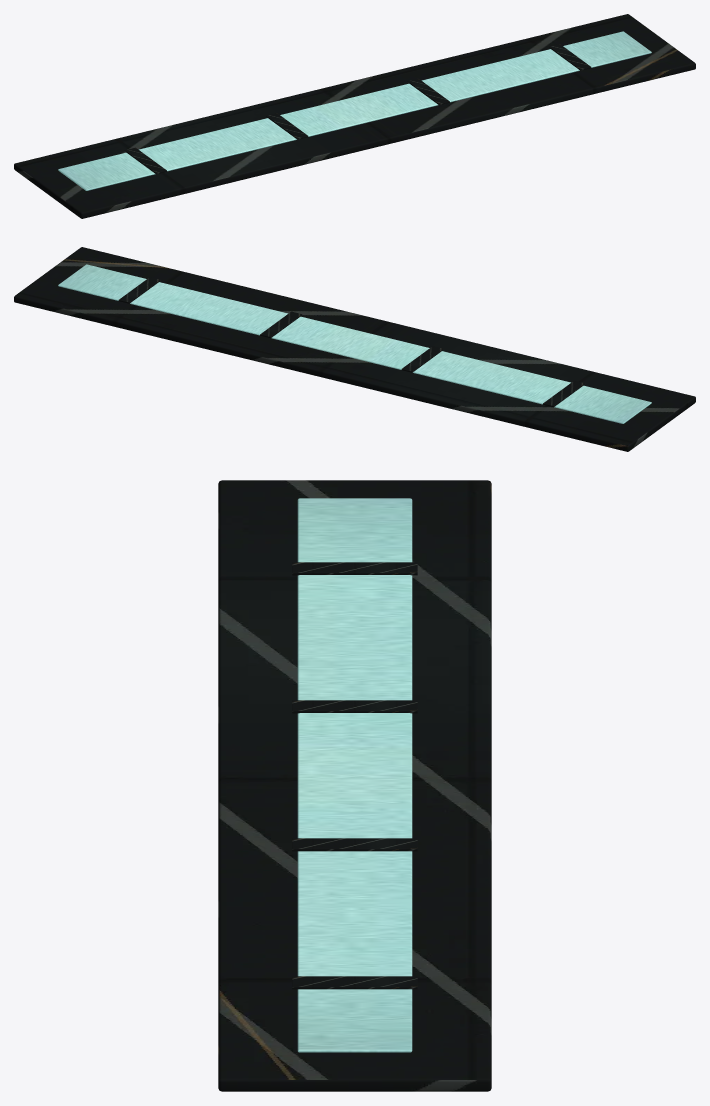
The model's file is hp_room_museum_floor_route_inlay.glb.
3 renders of one model, top to bottom at view 1: azimuth 30°, elevation 25°; view 2: azimuth 150°, elevation 25°; view 3: azimuth 270°, elevation 25°, orthographic. The views are drawn at different scales.
Parts seen in each view (by area): view 1: museum_floor_route_base, image2_four_color_route_visible_strip, thin_route_divider_0; view 2: museum_floor_route_base, image2_four_color_route_visible_strip, thin_route_divider_0; view 3: museum_floor_route_base, image2_four_color_route_visible_strip, thin_route_divider_0.
Part boxes in pixels (x1,y1,x2,y2): museum_floor_route_base: [14, 14, 695, 218]; image2_four_color_route_visible_strip: [58, 31, 651, 190]; thin_route_divider_0: [124, 44, 591, 174]; museum_floor_route_base: [14, 247, 695, 451]; image2_four_color_route_visible_strip: [58, 264, 651, 423]; thin_route_divider_0: [118, 277, 585, 407]; museum_floor_route_base: [218, 480, 491, 1091]; image2_four_color_route_visible_strip: [297, 498, 412, 1052]; thin_route_divider_0: [292, 562, 417, 989].
Bounding box in the file's own units: 4.92 × 0.0808 × 0.9458.
3 materials, 3 textured.
